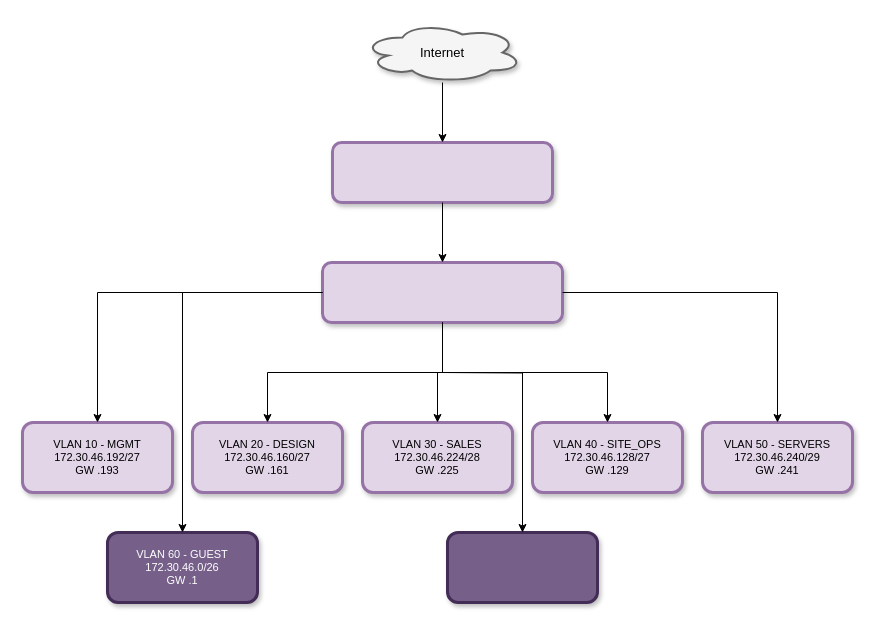
The diagram is 877 pixels wide and 628 high, and some of its shapes have lost their labels. The centre of each missing label's shape, as x and y in pixels:
Core L3 Switch Inter-VLAN routing (SVIs): [443,293]
Edge Router ACL: VLAN 10 permit first: [443,173]
VLAN 70 - FLOOR2 (CR2) 172.30.46.64/26 GW .65: [523,568]
